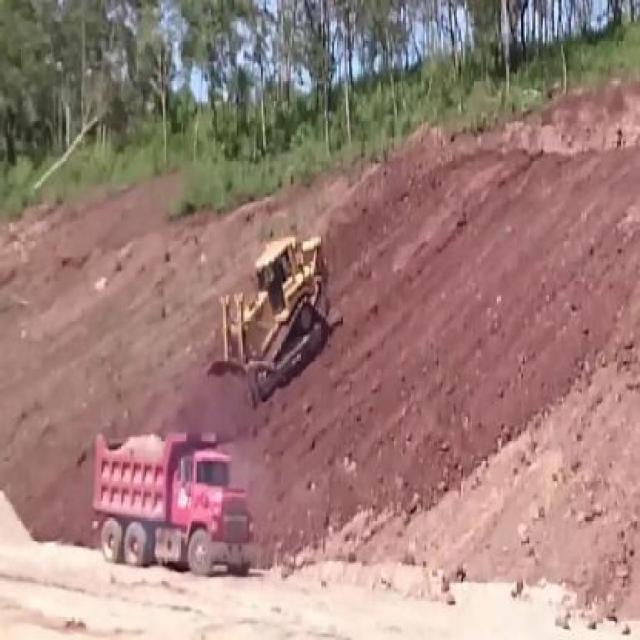Bulldozer: (204, 230, 342, 412)
Dump Truck: (94, 435, 255, 573)
